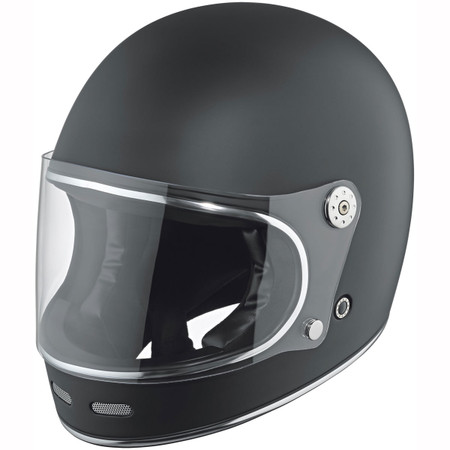with_helmet: (25, 2, 438, 449)
